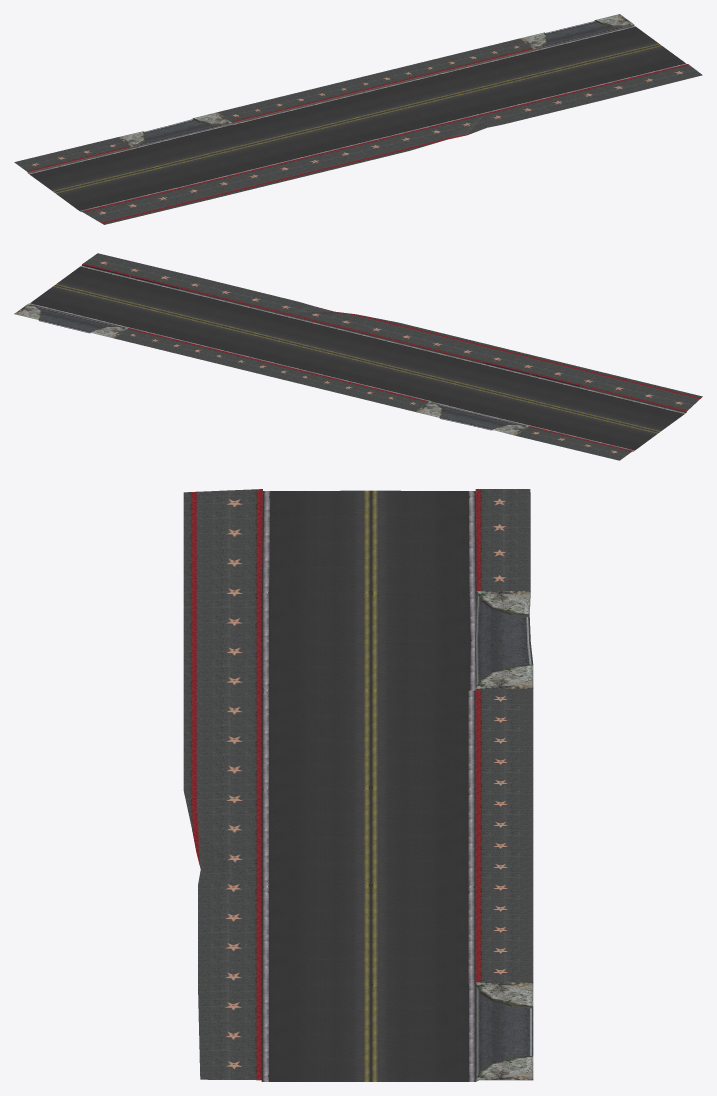
The model's file is road_lawn09.obj.
3 renders of one model, top to bottom at view 1: azimuth 30°, elevation 25°; view 2: azimuth 150°, elevation 25°; view 3: azimuth 270°, elevation 25°, orthographic. The views are drawn at different scales.
Visible parts, largest first — view 1: road_lawn09; view 2: road_lawn09; view 3: road_lawn09.
Part boxes in pixels (box(x1,y1,x2,y2)): road_lawn09: box(14, 14, 702, 224); road_lawn09: box(14, 253, 702, 460); road_lawn09: box(183, 489, 533, 1081).
Size of the model in its own units: 121 by 0.3747 by 30.23.
